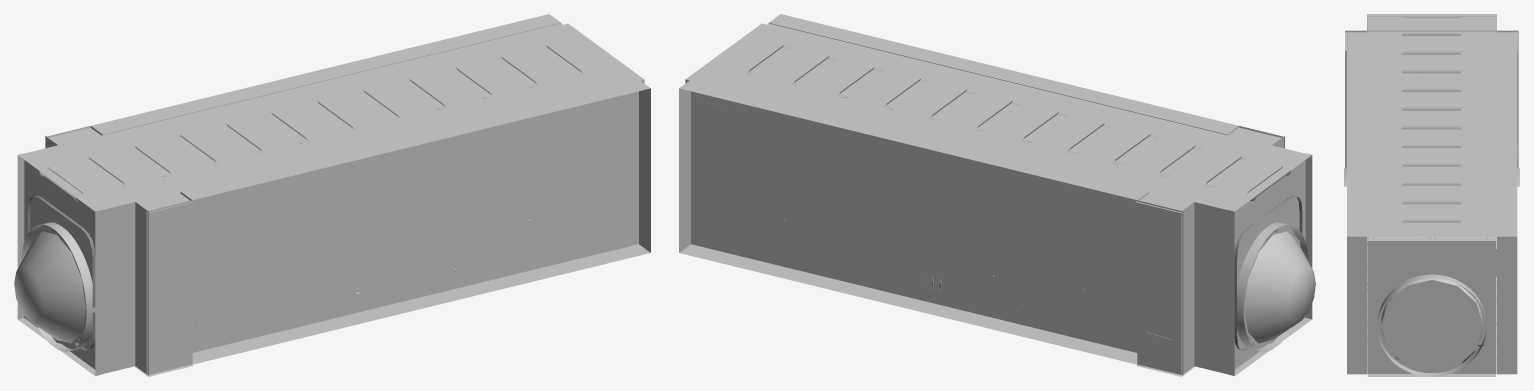
File: Zarya.FBX
3 views of the same model, side by side, from view 1: azimuth 30°, elevation 25°; view 2: azimuth 150°, elevation 25°; view 3: azimuth 270°, elevation 25° (orthographic). The views are drawn at different scales.
Parts seen in each view (by area): view 1: Right_Wall, Roof, Box252, Box253, Right_Wall001, Object026, Cylinder304, Plane157, Hatch006; view 2: Right_Wall001, Roof, Box252, Box253, Right_Wall, Object026, Cylinder304, Plane157, Hatch006; view 3: Roof, Box251, Object025, Right_Wall001, Right_Wall, Box252, Cylinder302, Plane157, Box253, Light015, Light019, Light022 (+9 smaller).
Boxes of the visible parts, x1,y1,x2,y2 form: Right_Wall: [146, 79, 650, 375]; Roof: [59, 23, 637, 202]; Box252: [23, 136, 148, 375]; Box253: [17, 153, 101, 376]; Right_Wall001: [45, 14, 560, 148]; Object026: [14, 228, 86, 346]; Cylinder304: [21, 222, 95, 351]; Plane157: [48, 127, 193, 212]; Hatch006: [27, 195, 95, 350]; Right_Wall001: [679, 79, 1183, 375]; Roof: [692, 23, 1270, 202]; Box252: [1181, 136, 1306, 375]; Box253: [1228, 153, 1312, 376]; Right_Wall: [769, 14, 1284, 148]; Object026: [1243, 228, 1315, 346]; Cylinder304: [1237, 222, 1308, 351]; Plane157: [1136, 127, 1281, 212]; Hatch006: [1234, 195, 1302, 350]; Roof: [1367, 31, 1496, 236]; Box251: [1367, 238, 1495, 376]; Object025: [1381, 280, 1482, 372]; Right_Wall001: [1497, 49, 1517, 374]; Right_Wall: [1347, 49, 1366, 374]; Box252: [1345, 17, 1518, 168]; Cylinder302: [1377, 274, 1486, 376]; Plane157: [1345, 32, 1518, 50]; Box253: [1367, 14, 1496, 31]; Light015: [1402, 200, 1460, 204]; Light019: [1402, 125, 1460, 129]; Light022: [1402, 69, 1460, 73].
Size of the model in its own units: 332 by 96.84 by 103.
